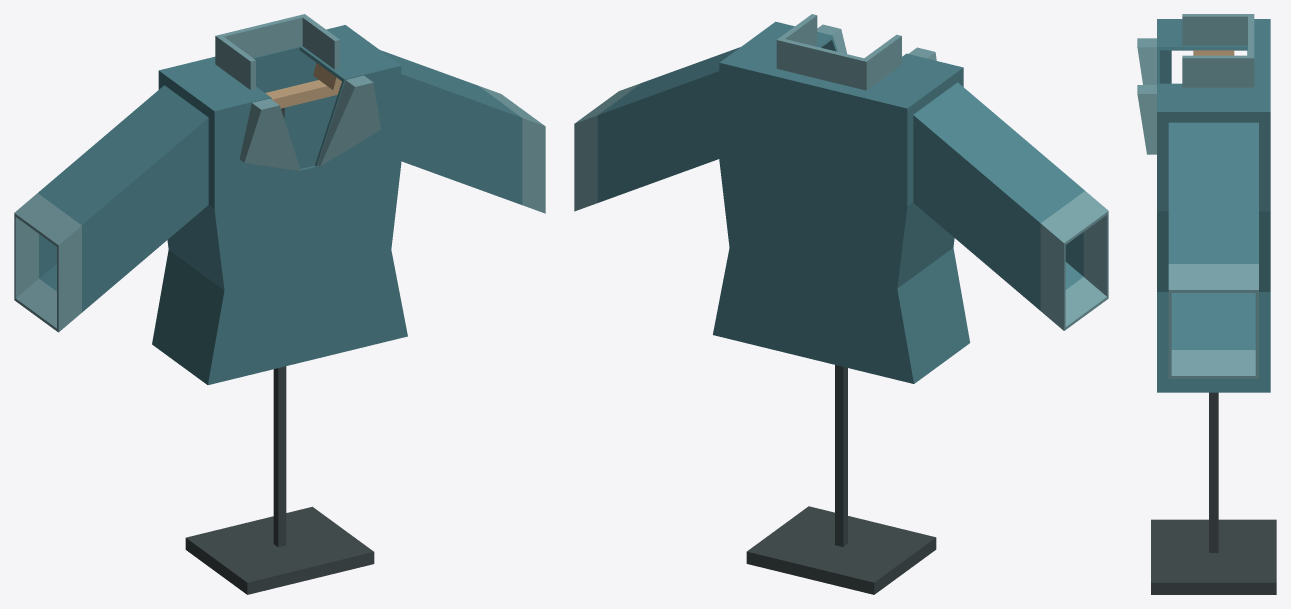
The picture shows the model from 3 angles, left to right: view 1: azimuth 30°, elevation 25°; view 2: azimuth 150°, elevation 25°; view 3: azimuth 270°, elevation 25°; orthographic projection.
Parts seen in each view (by area): view 1: ContinuousHollowLongSleeveBody, CompleteGroundBase, StandingRearCollar, ReturnedLapelRight, ReturnedLapelLeft, NarrowDisplayPost, DedicatedInternalShoulderYoke; view 2: ContinuousHollowLongSleeveBody, CompleteGroundBase, StandingRearCollar, NarrowDisplayPost; view 3: ContinuousHollowLongSleeveBody, CompleteGroundBase, StandingRearCollar, NarrowDisplayPost, ReturnedLapelRight, ReturnedLapelLeft, DedicatedInternalShoulderYoke.
Boxes of the visible parts, <box> form: ContinuousHollowLongSleeveBody: <box>14,25,545,384</box>; CompleteGroundBase: <box>185,506,374,594</box>; StandingRearCollar: <box>215,14,339,89</box>; ReturnedLapelRight: <box>317,75,380,166</box>; ReturnedLapelLeft: <box>239,98,300,171</box>; NarrowDisplayPost: <box>273,108,286,547</box>; DedicatedInternalShoulderYoke: <box>265,63,341,108</box>; ContinuousHollowLongSleeveBody: <box>574,21,1108,383</box>; CompleteGroundBase: <box>746,506,936,594</box>; StandingRearCollar: <box>776,14,901,90</box>; NarrowDisplayPost: <box>835,365,847,546</box>; ContinuousHollowLongSleeveBody: <box>1157,19,1270,392</box>; CompleteGroundBase: <box>1151,519,1276,594</box>; StandingRearCollar: <box>1182,14,1254,87</box>; NarrowDisplayPost: <box>1209,392,1218,552</box>; ReturnedLapelRight: <box>1137,85,1156,154</box>; ReturnedLapelLeft: <box>1137,38,1156,84</box>; DedicatedInternalShoulderYoke: <box>1193,50,1234,55</box>.
Size of the model in its own units: 1.46 by 1.48 by 0.3547.
